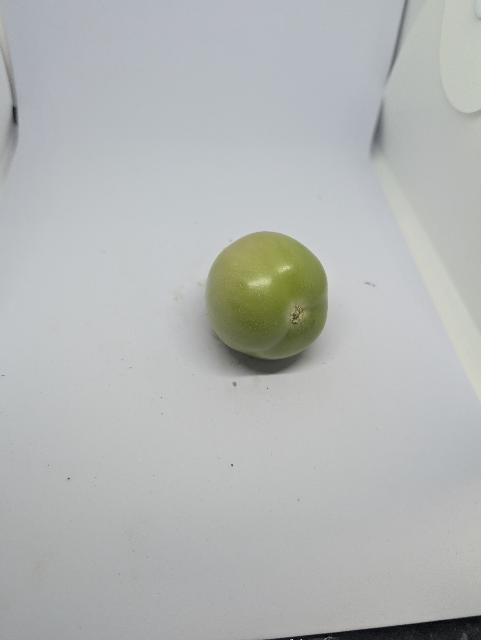green: (204, 229, 332, 363)
